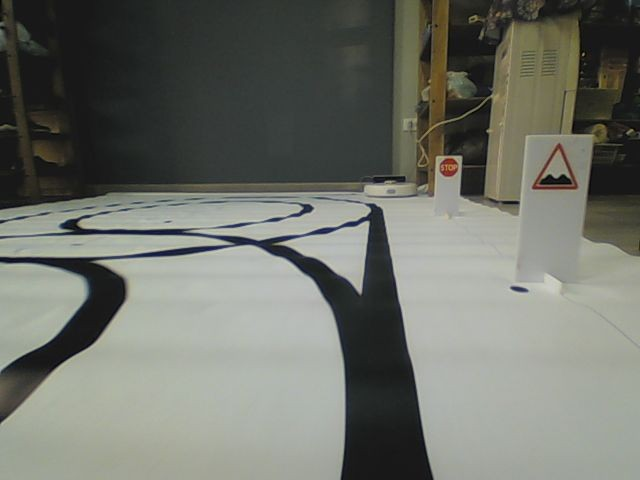Stop: (437, 157, 459, 175)
